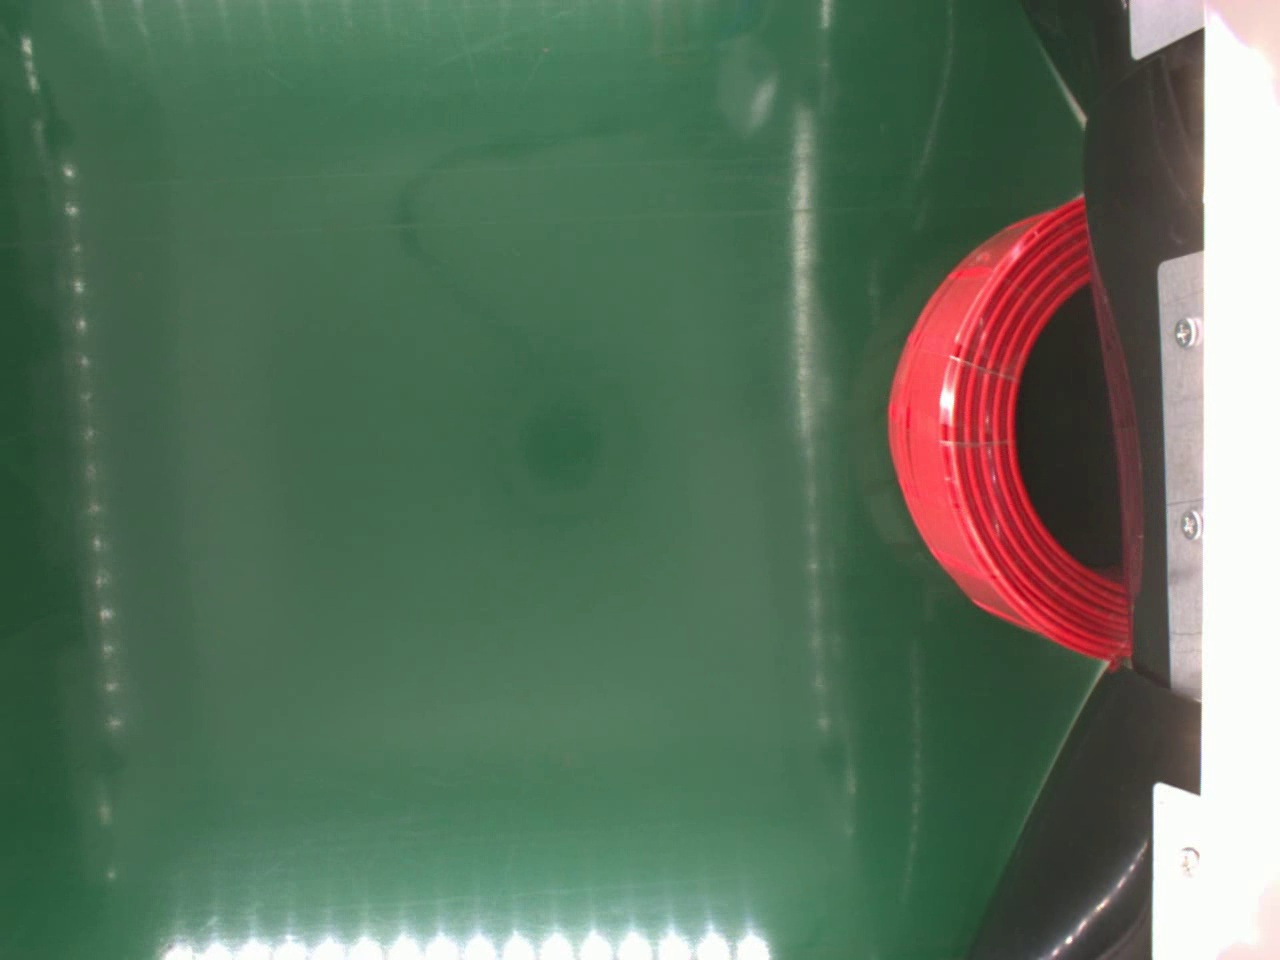red: (883, 192, 1134, 664)
